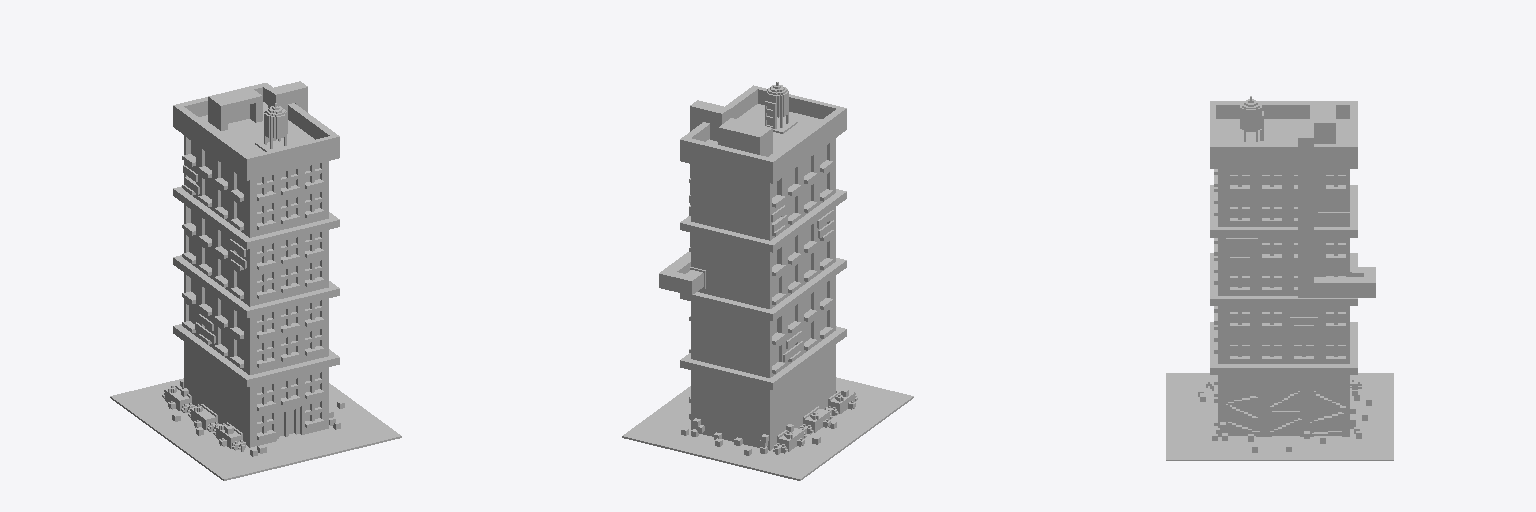
The model's file is building2.obj.
The picture shows the model from 3 angles: view 1: azimuth 30°, elevation 25°; view 2: azimuth 150°, elevation 25°; view 3: azimuth 270°, elevation 25°; orthographic projection.
Visible parts, largest first — view 1: object 1; view 2: object 1; view 3: object 1.
Boxes of the visible parts, <box> form: object 1: <box>110,81,401,480</box>; object 1: <box>622,82,913,480</box>; object 1: <box>1166,96,1393,460</box>.
Bounding box in the file's own units: 10.3 × 17.9 × 11.4.